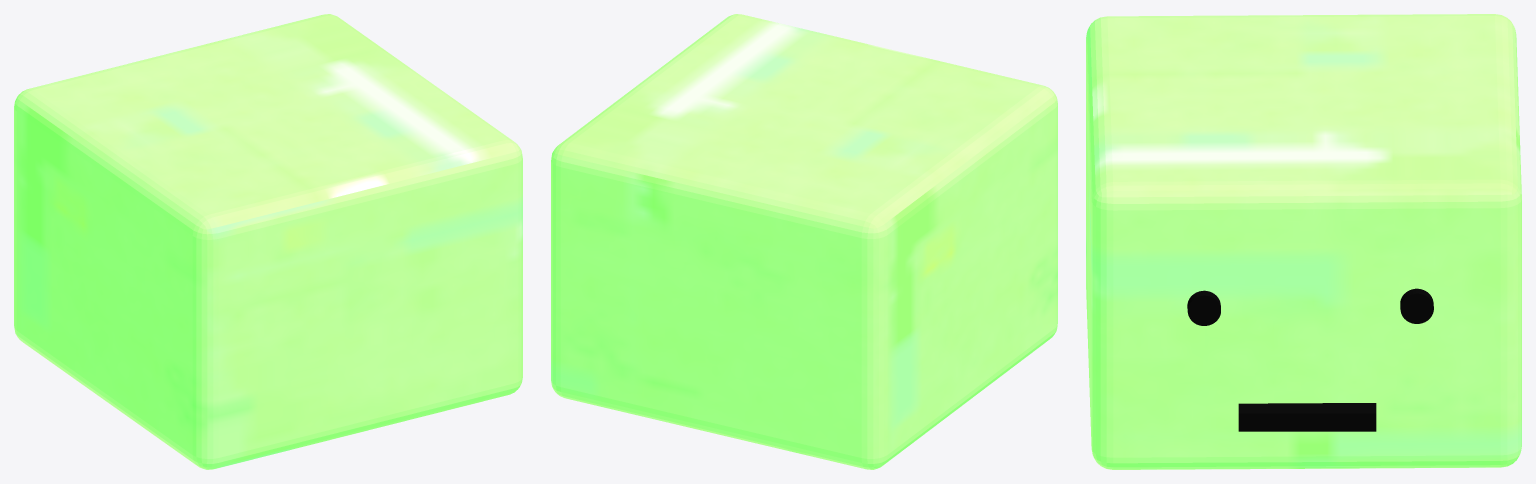
File: packet-normal.glb
3 renders of one model, left to right at view 1: azimuth 30°, elevation 25°; view 2: azimuth 150°, elevation 25°; view 3: azimuth 270°, elevation 25°, orthographic. The views are drawn at different scales.
Visible parts, largest first — view 1: 立方体; view 2: 立方体; view 3: 立方体, 口, 左目, 右目.
Part boxes in pixels (left/top/right/bottom): 立方体: left=14, top=14, right=522, bottom=469; 立方体: left=551, top=14, right=1057, bottom=469; 立方体: left=1086, top=14, right=1521, bottom=469; 口: left=1238, top=403, right=1376, bottom=431; 左目: left=1400, top=288, right=1433, bottom=323; 右目: left=1187, top=290, right=1220, bottom=325.
Bounding box in the file's own units: 2.13 × 1.47 × 2.03.
4 materials, 1 textured.
